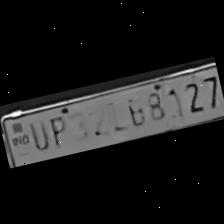1: (162, 82, 184, 119)
2: (177, 76, 206, 115)
7: (196, 72, 222, 110)
8: (140, 86, 168, 124)
P: (42, 110, 72, 148)
U: (25, 115, 51, 151)
